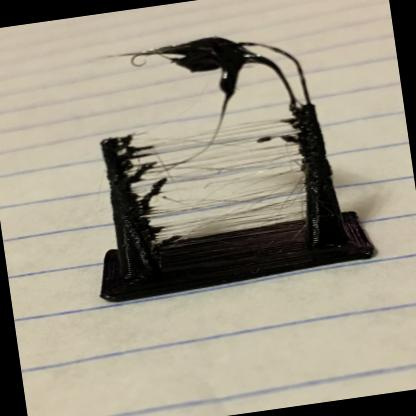fail: (110, 117, 316, 251)
